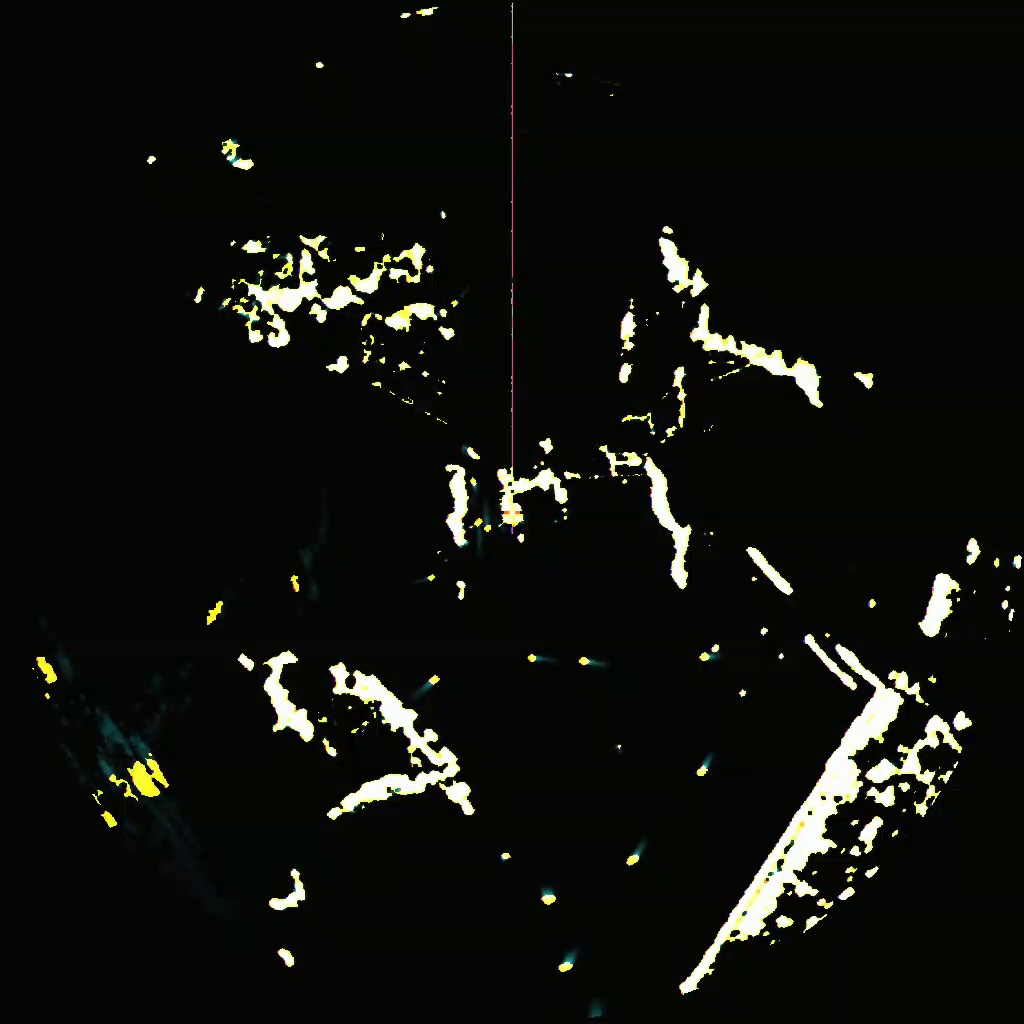B: (415, 675, 439, 700), (623, 845, 644, 867), (694, 754, 713, 778), (556, 953, 576, 972), (538, 887, 557, 906), (526, 653, 555, 664), (473, 518, 482, 553), (579, 657, 608, 667), (697, 652, 721, 663), (483, 506, 492, 532), (416, 574, 434, 585), (470, 477, 479, 495)
